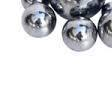ironball: (17, 2, 57, 41), (43, 0, 111, 18), (61, 19, 98, 52), (96, 7, 111, 55)
